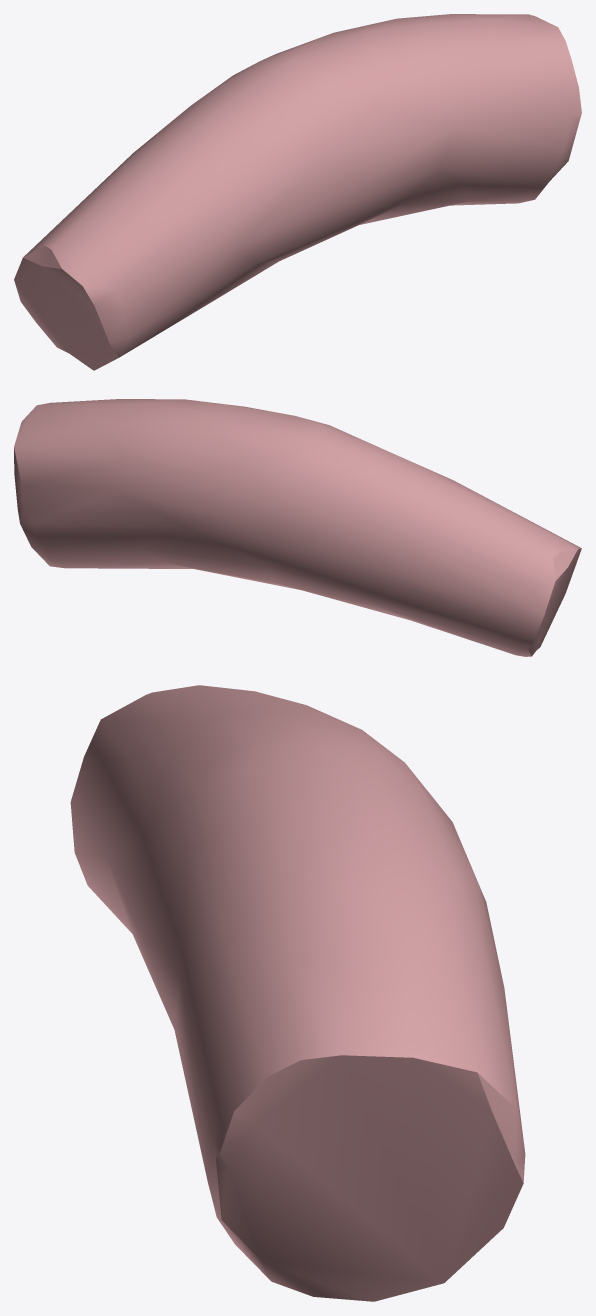
File: fma68216_fj2500.glb
The picture shows the model from 3 angles, top to bottom: view 1: azimuth 30°, elevation 25°; view 2: azimuth 150°, elevation 25°; view 3: azimuth 270°, elevation 25°; orthographic projection. The views are drawn at different scales.
Parts seen in each view (by area): view 1: FMA68216_FJ2500; view 2: FMA68216_FJ2500; view 3: FMA68216_FJ2500.
Boxes of the visible parts, x1=… form: FMA68216_FJ2500: x1=14, y1=14, x2=581, y2=370; FMA68216_FJ2500: x1=14, y1=399, x2=581, y2=656; FMA68216_FJ2500: x1=70, y1=685, x2=525, y2=1301.
Bounding box in the file's own units: 0.0101 × 0.00382 × 0.00399.
